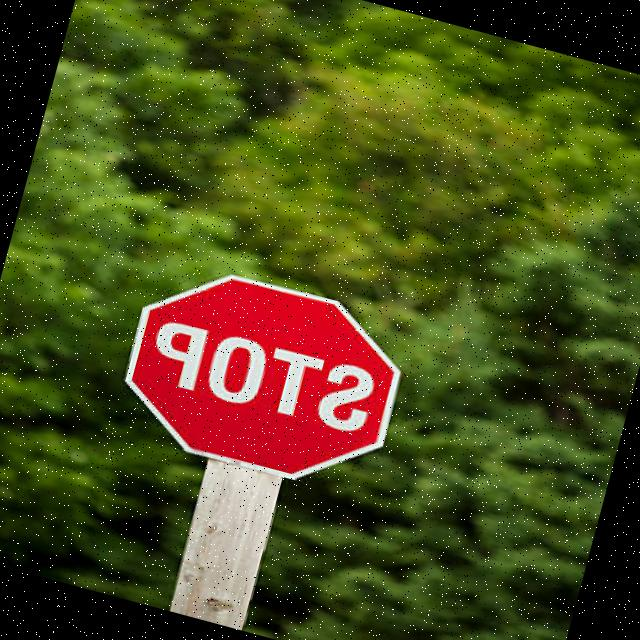stop: (88, 240, 426, 511)
